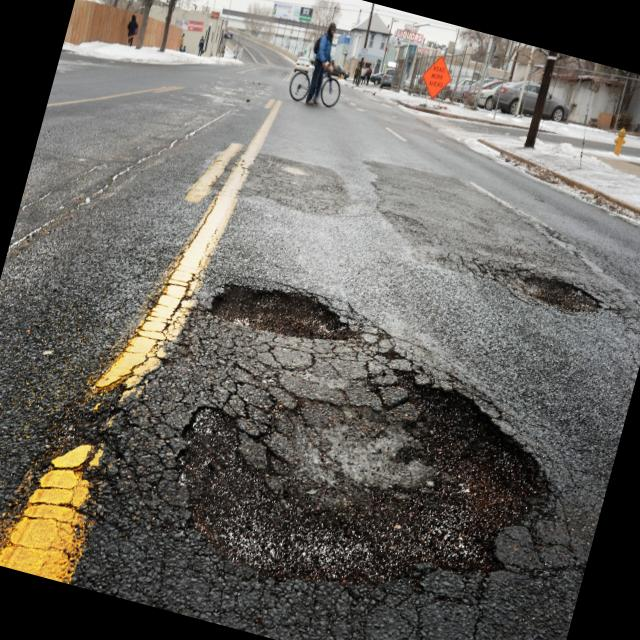Potholes: (168, 296, 586, 640), (201, 248, 363, 358), (504, 242, 616, 342)
